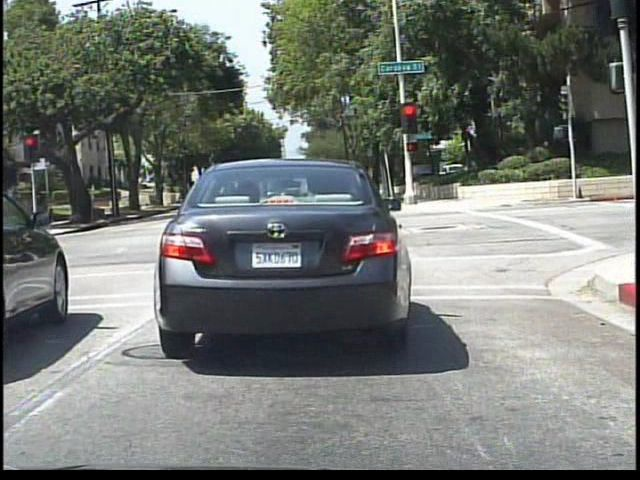person: (30, 184, 52, 231)
